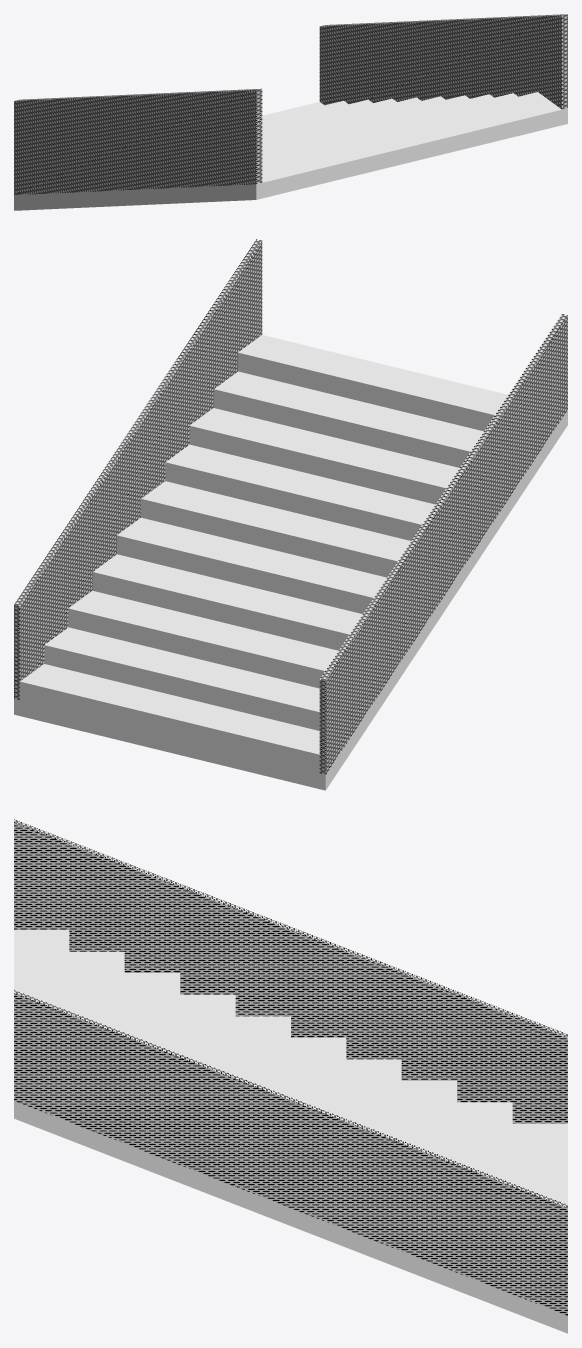
The model's file is Thresher-Room-Walkway-Stair.obj.
3 views of the same model, one above another, from view 1: azimuth 30°, elevation 25°; view 2: azimuth 150°, elevation 25°; view 3: azimuth 270°, elevation 25° (orthographic). The views are drawn at different scales.
Parts seen in each view (by area): view 1: Thresher-Room-Walkway-Stair; view 2: Thresher-Room-Walkway-Stair; view 3: Thresher-Room-Walkway-Stair.
Part boxes in pixels (bbox=[...]): Thresher-Room-Walkway-Stair: bbox=[14, 14, 567, 210]; Thresher-Room-Walkway-Stair: bbox=[14, 239, 567, 790]; Thresher-Room-Walkway-Stair: bbox=[14, 819, 567, 1333].
Size of the model in its own units: 5.2 by 4.75 by 7.
